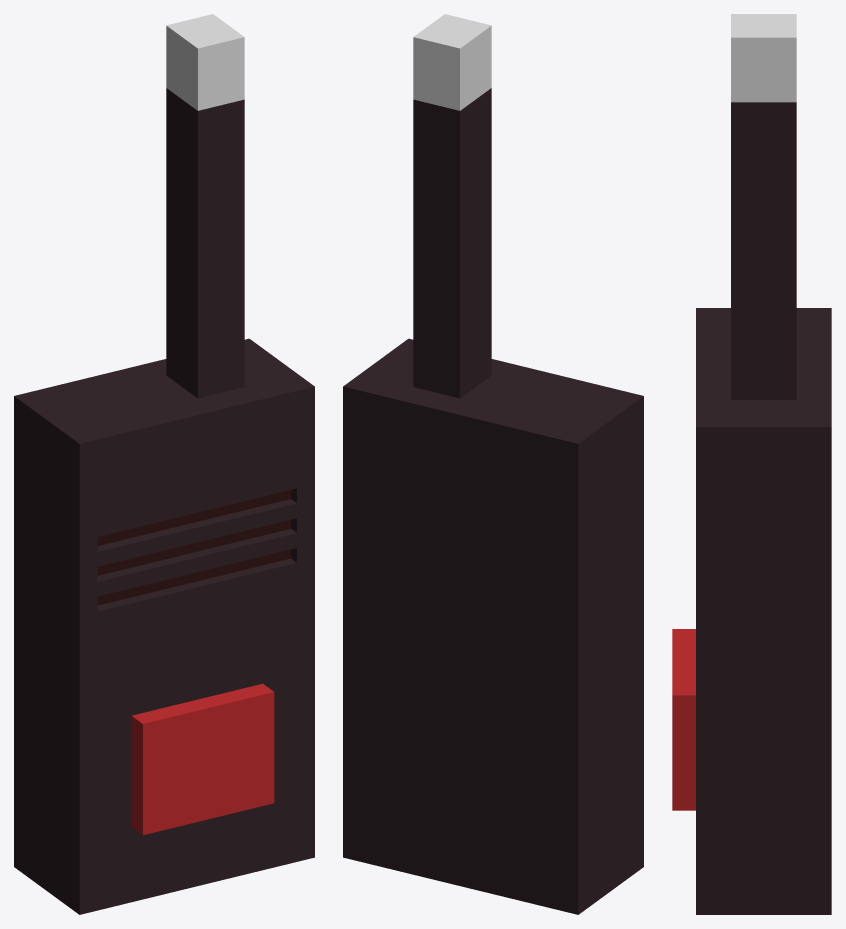
Rendered from Radio.fbx.
The picture shows the model from 3 angles, left to right: view 1: azimuth 30°, elevation 25°; view 2: azimuth 150°, elevation 25°; view 3: azimuth 270°, elevation 25°; orthographic projection. The views are drawn at different scales.
Parts seen in each view (by area): view 1: Model; view 2: Model; view 3: Model.
Boxes of the visible parts, x1,y1,x2,y2 form: Model: (14, 14, 314, 914); Model: (343, 14, 643, 914); Model: (672, 14, 831, 914).
Size of the model in its own units: 0.2272 by 0.7576 by 0.1286.
